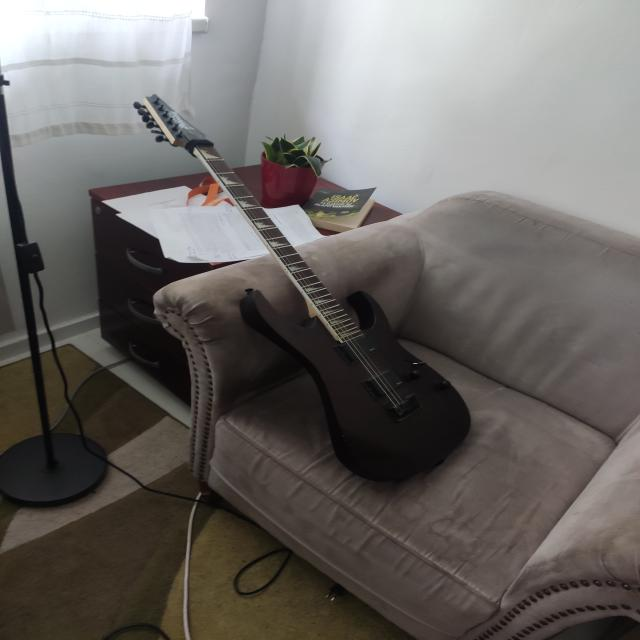guitar: (128, 90, 474, 483)
